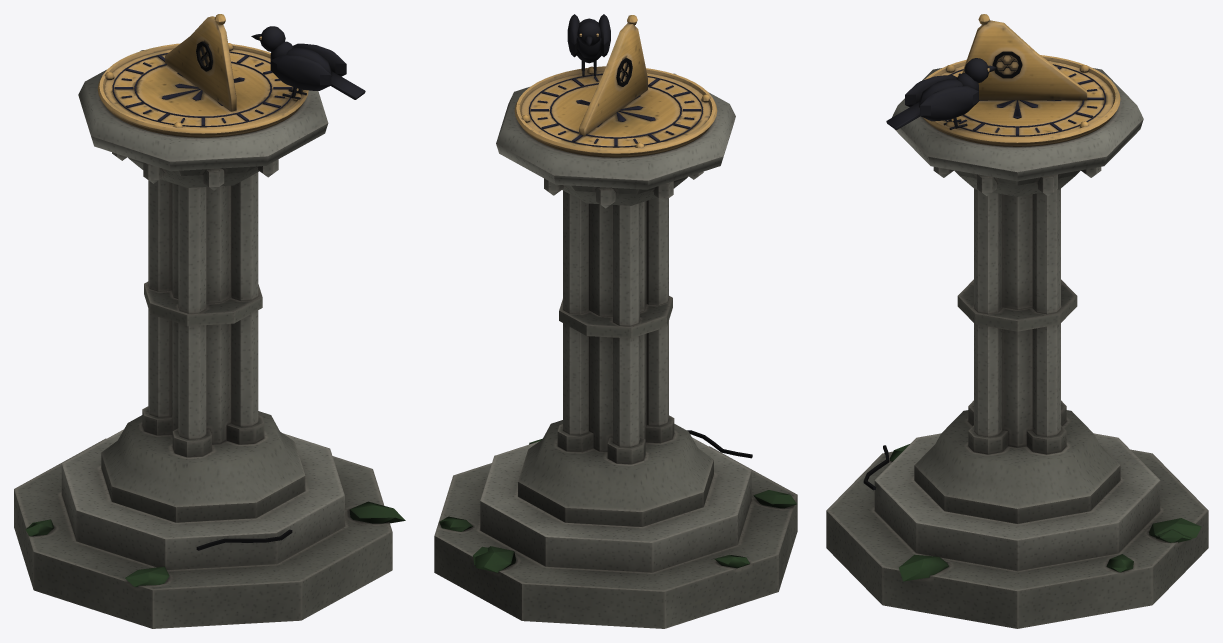
File: Sundial.fbx
3 views of the same model, side by side, from view 1: azimuth 30°, elevation 25°; view 2: azimuth 150°, elevation 25°; view 3: azimuth 270°, elevation 25° (orthographic). The views are drawn at different scales.
Parts seen in each view (by area): view 1: Sundial; view 2: Sundial; view 3: Sundial.
Boxes of the visible parts, bbox=[...] form: Sundial: bbox=[14, 14, 405, 628]; Sundial: bbox=[434, 14, 797, 628]; Sundial: bbox=[826, 14, 1208, 628].
Bounding box in the file's own units: 230 × 355 × 230.
